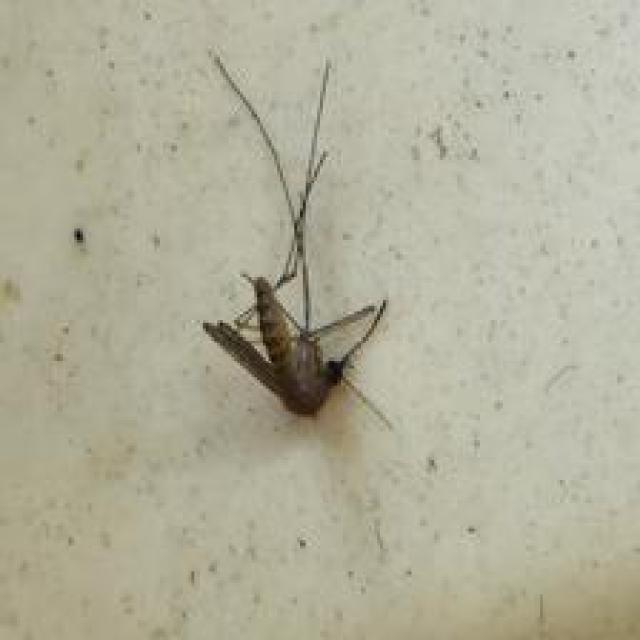Culex: (198, 46, 396, 431)
